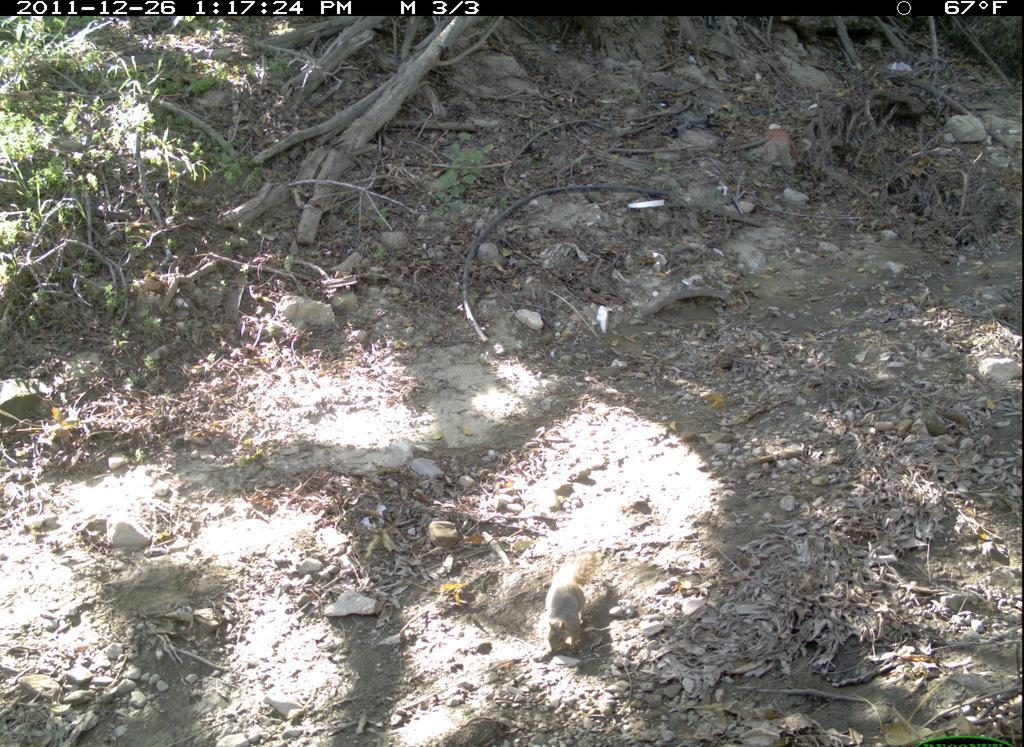squirrel: (540, 543, 609, 660)
